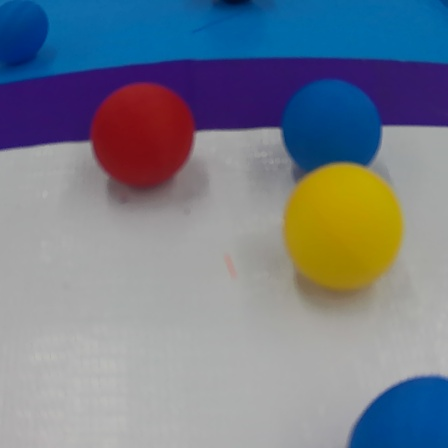blue: (277, 75, 387, 173), (341, 373, 448, 448), (0, 0, 48, 66)
blue_aim: (0, 0, 447, 142)
red: (92, 82, 198, 196)
yellow: (283, 161, 405, 294)
